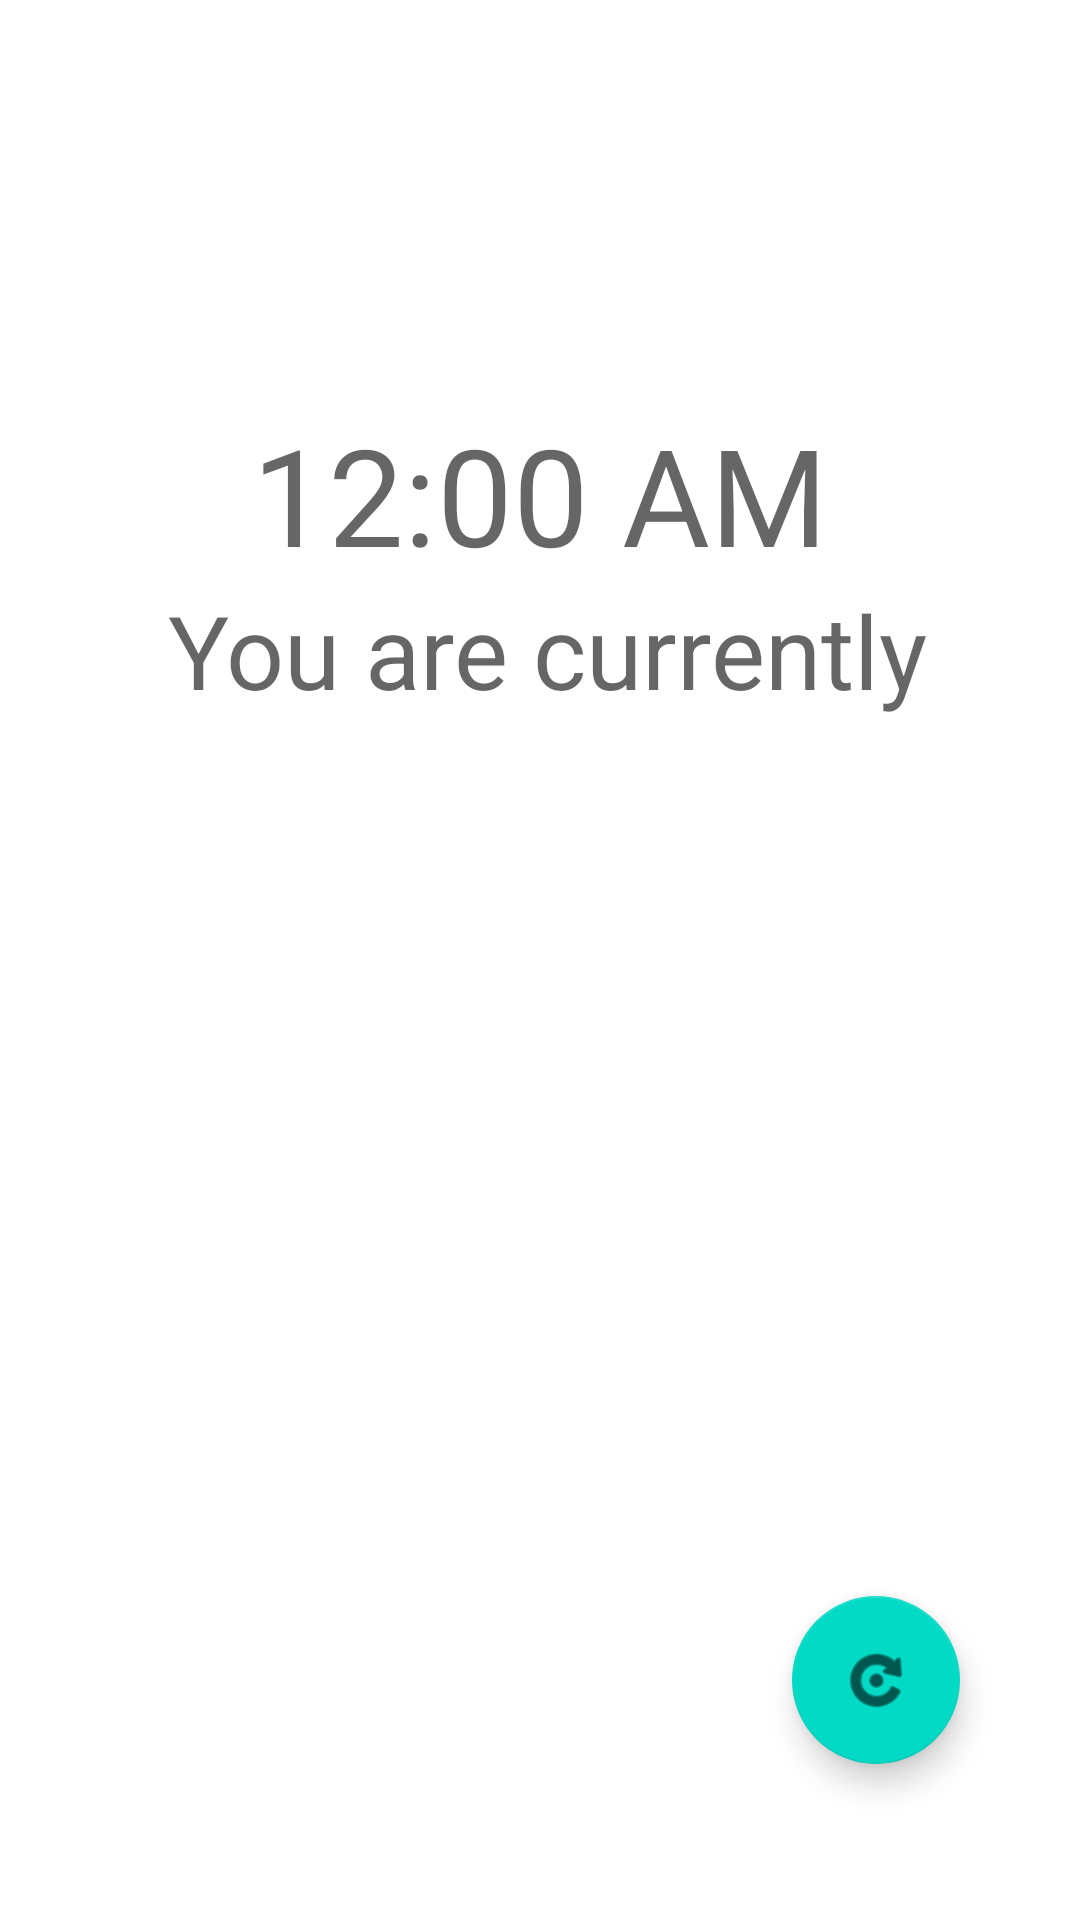

Point at icon controls on the screen. Image size 1080x1920, points as point (x, y).
rotate: point (876, 1680)
